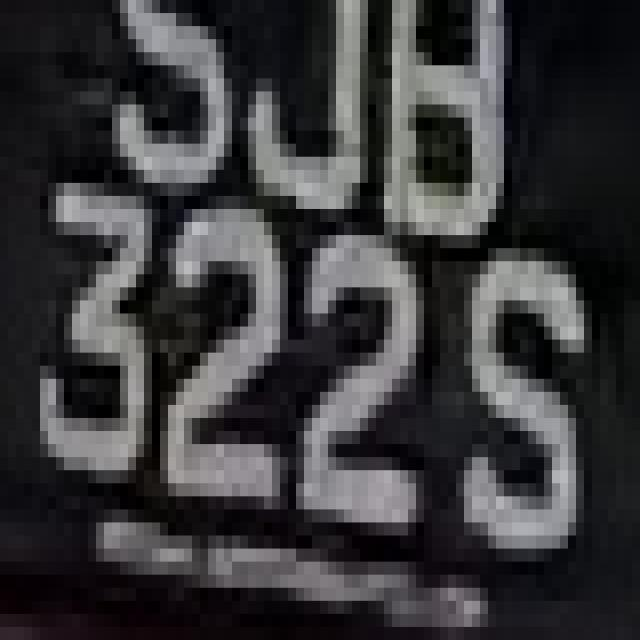2: (144, 170, 304, 535), (280, 196, 432, 548)
3: (24, 157, 152, 496)
B: (368, 13, 536, 235)
J: (264, 26, 384, 274)
S: (432, 209, 600, 562)
